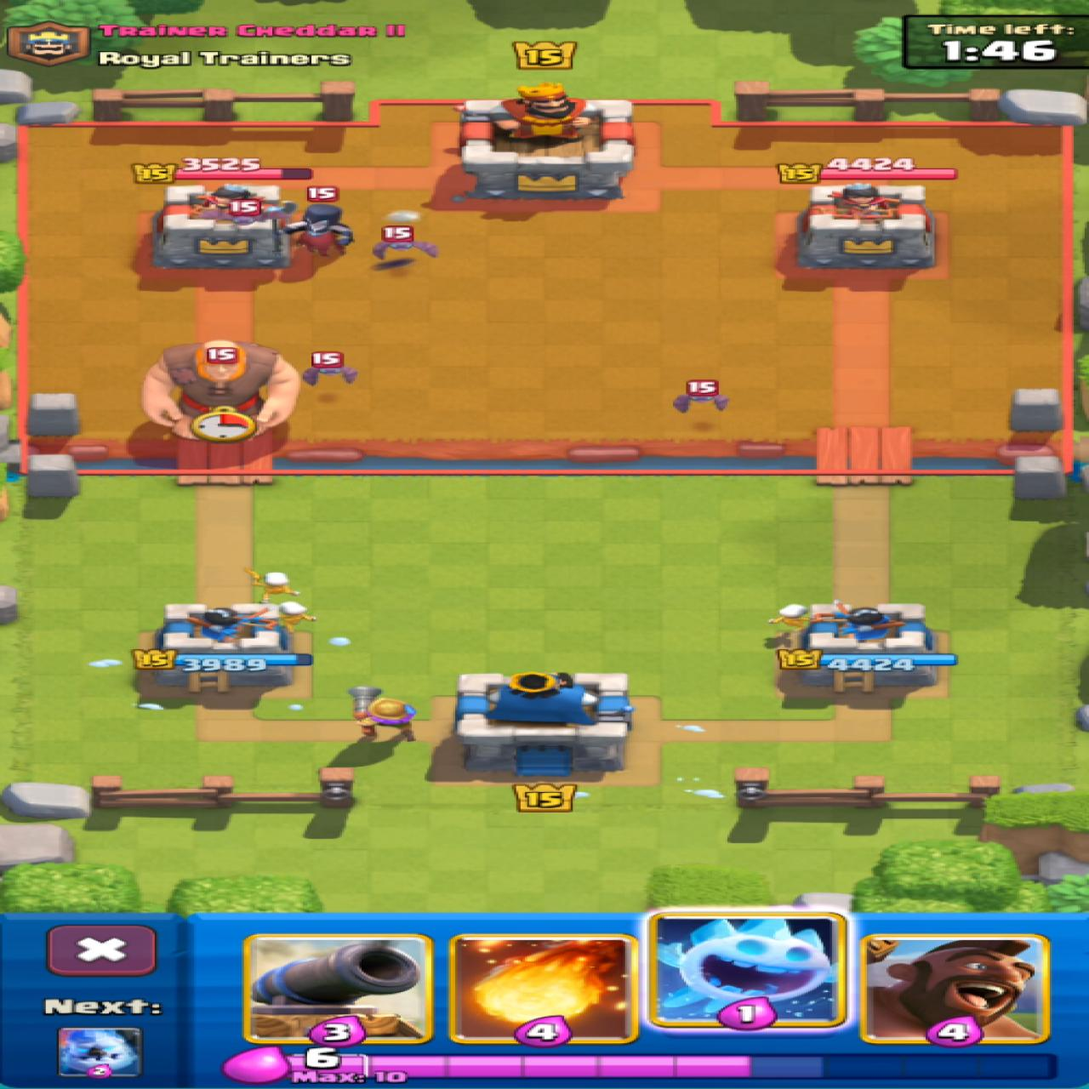Enemy-Bat: (372, 214, 436, 261), (194, 198, 294, 224), (675, 380, 727, 412), (305, 353, 355, 385)
Enemy-Giant: (144, 339, 298, 439)
Enemy-KingTower: (457, 84, 634, 198)
Enemy-NightWitch: (266, 202, 351, 266)
Enemy-PrincessTower: (152, 185, 296, 267), (797, 183, 934, 268)
